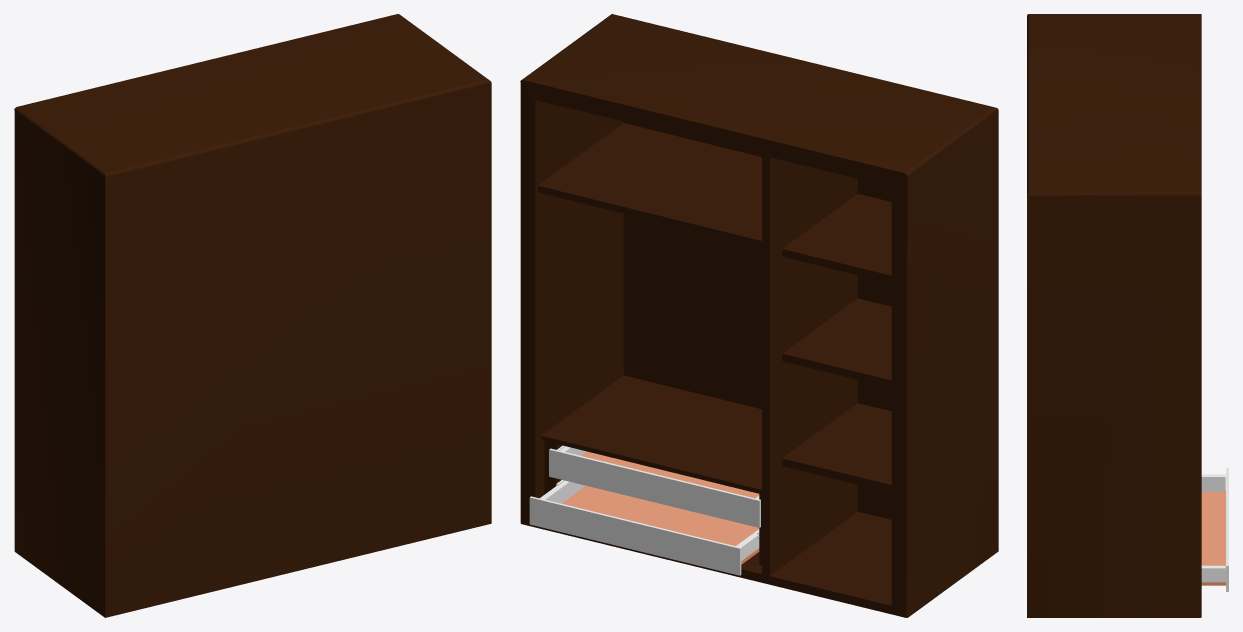
3 renders of one model, left to right at view 1: azimuth 30°, elevation 25°; view 2: azimuth 150°, elevation 25°; view 3: azimuth 270°, elevation 25°, orthographic. The views are drawn at different scales.
Visible parts, largest first — view 1: wood_6; view 2: wood_6, Cube.5_13, Cube.5_17, Cube.6_12, Cube.6_16; view 3: wood_6, Cube.6_12, Cube.8_10, Cube.7_11, Cube.5_13.
Part boxes in pixels (<box>): wood_6: <box>14,14,491,617</box>; wood_6: <box>520,14,998,617</box>; Cube.5_13: <box>529,496,741,575</box>; Cube.5_17: <box>549,448,760,527</box>; Cube.6_12: <box>562,485,759,564</box>; Cube.6_16: <box>581,451,759,498</box>; wood_6: <box>1027,14,1201,617</box>; Cube.6_12: <box>1201,490,1225,585</box>; Cube.8_10: <box>1201,474,1225,491</box>; Cube.7_11: <box>1201,565,1225,581</box>; Cube.5_13: <box>1226,468,1228,591</box>.
Size of the model in its own units: 3.42 by 3.76 by 1.62.
